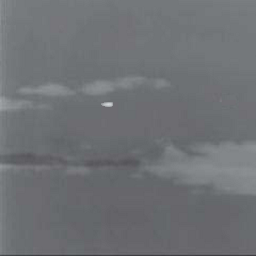Target: (99, 100, 114, 107)
